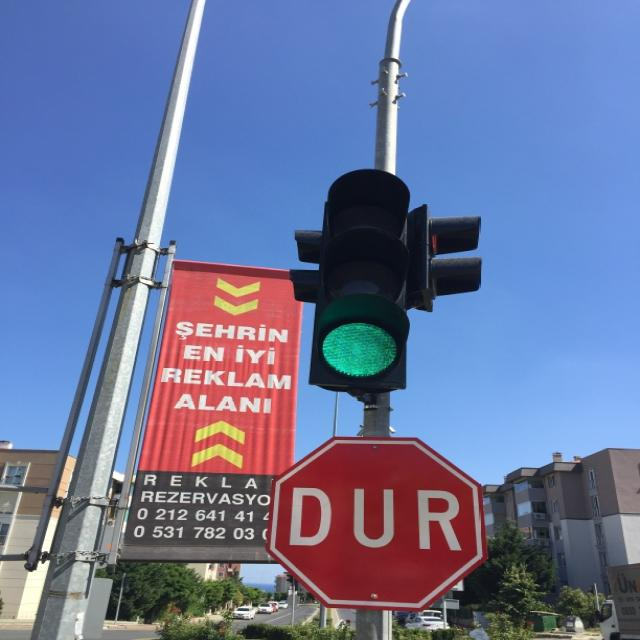dur: (267, 438, 487, 612)
yesil: (312, 173, 408, 390)
